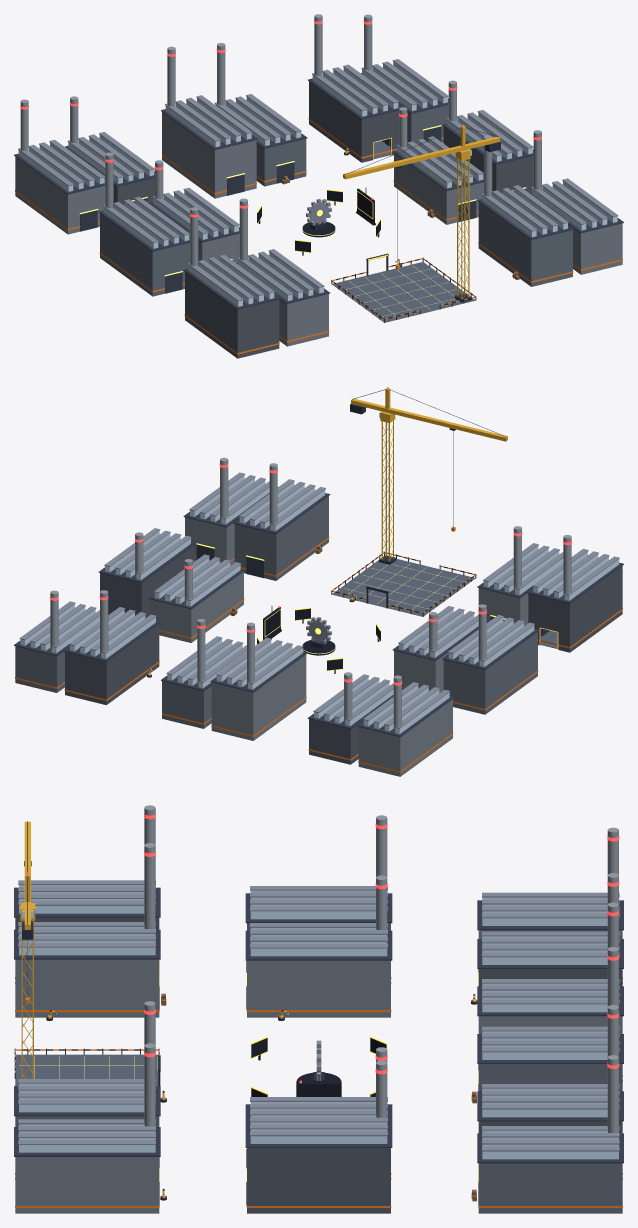
3 renders of one model, top to bottom at view 1: azimuth 30°, elevation 25°; view 2: azimuth 150°, elevation 25°; view 3: azimuth 270°, elevation 25°, orthographic. The views are drawn at different scales.
Parts seen in each view (by area): view 1: district_city_taller.lod0; view 2: district_city_taller.lod0; view 3: district_city_taller.lod0.
Boxes of the visible parts, x1,y1,x2,y2 form: district_city_taller.lod0: [14, 14, 623, 358]; district_city_taller.lod0: [14, 387, 623, 776]; district_city_taller.lod0: [14, 805, 623, 1213].
Bounding box in the file's own units: 97.4 × 41.97 × 97.4.
